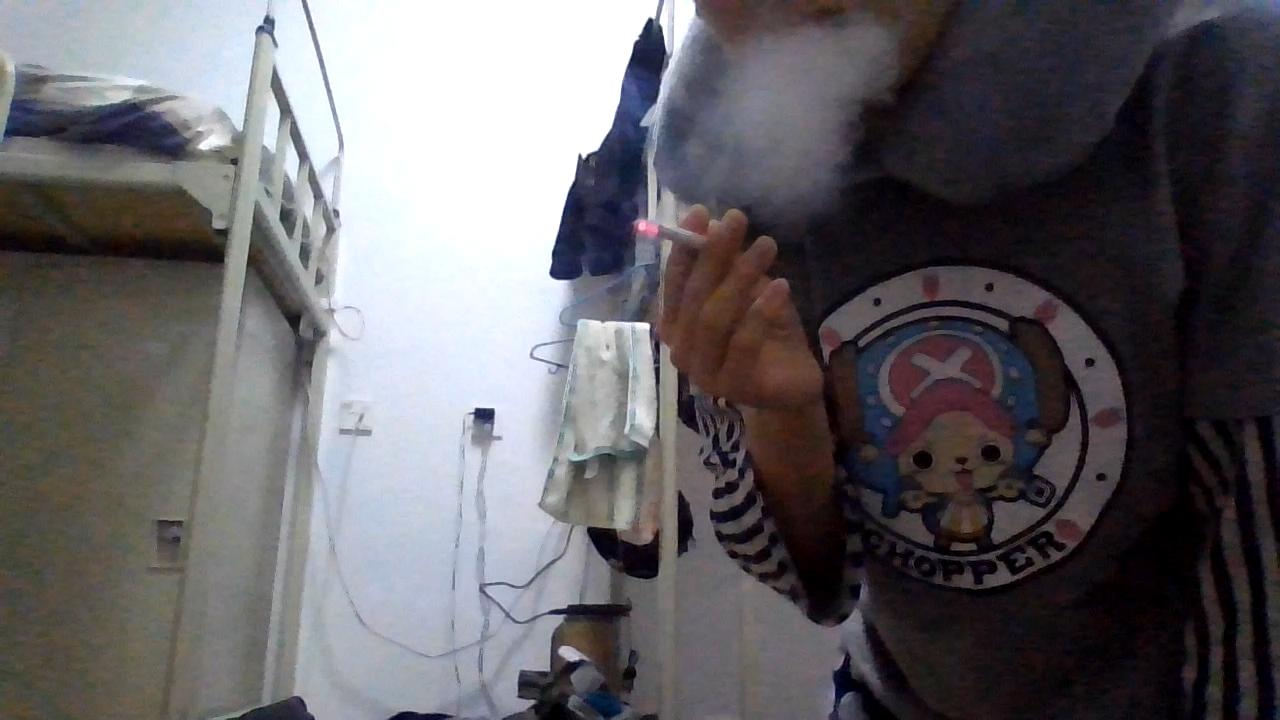smoke: (678, 19, 910, 204)
